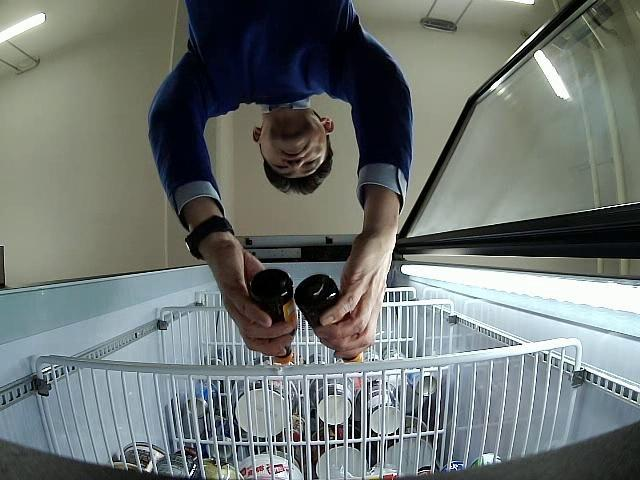17_vita500: (296, 274, 366, 361), (249, 269, 294, 364)
